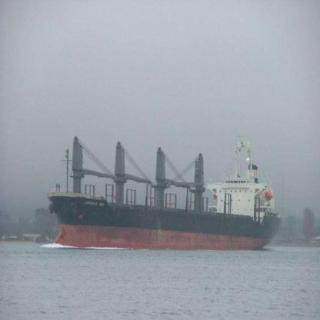Bulk Carrier: (48, 135, 284, 251)
